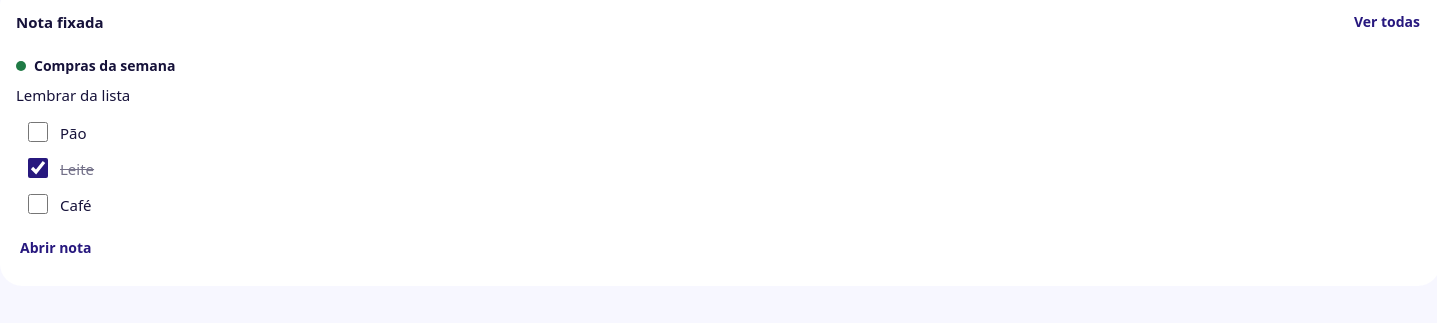
Scenario: NotaFixada, caixinhas › erroAoSalvarDesfazAMarcacaoEMostraAviso
Click the checkbox named "Task item checkbox for Pão" at (38, 132), box [28, 122, 48, 142]
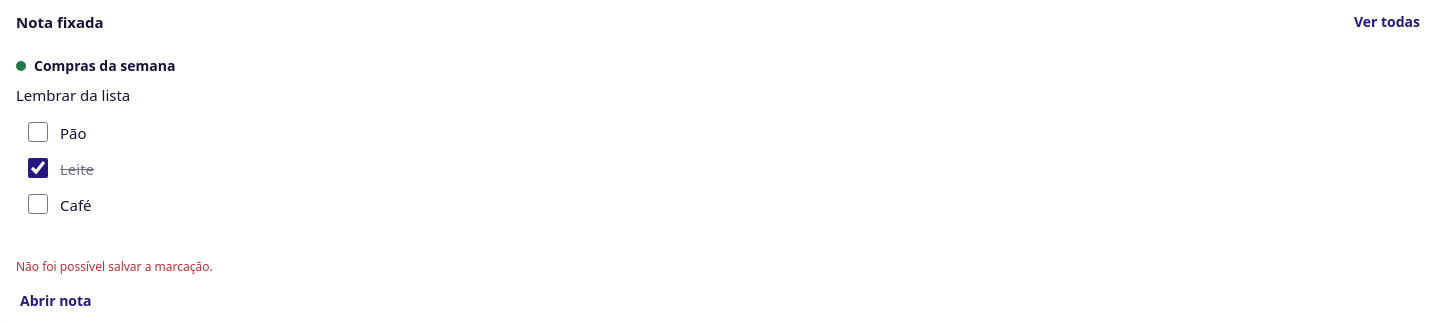
expect the text "Não foi possível salvar a marcação." is shown: met, box [16, 258, 213, 275]
